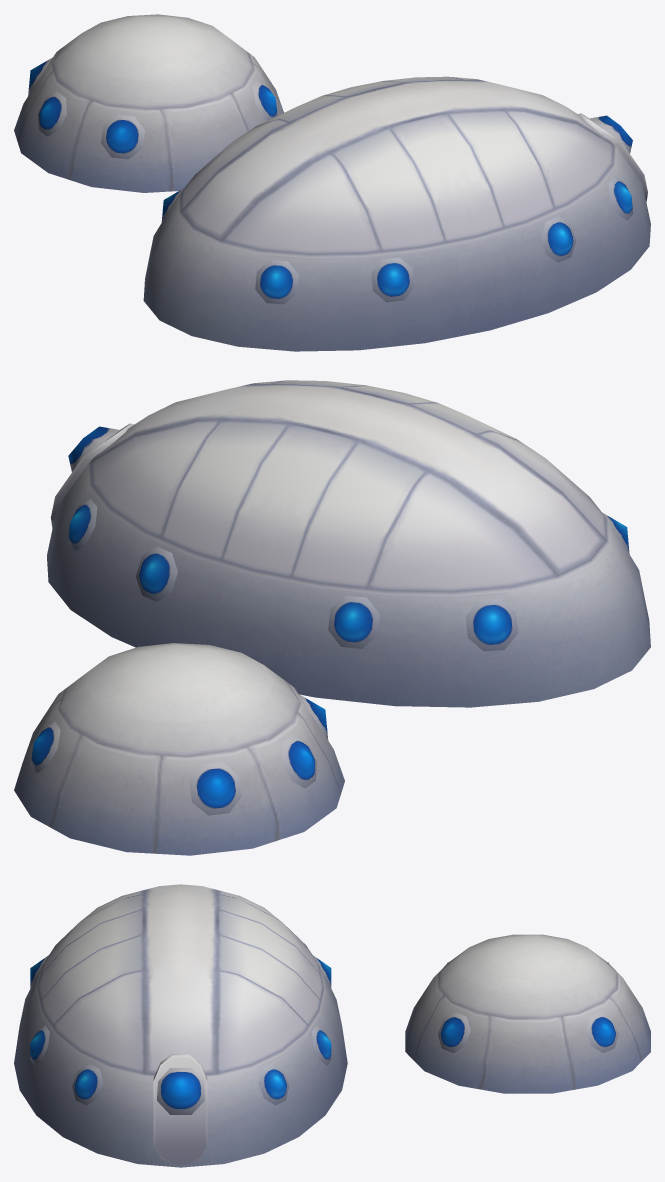
Rendered from nameikexing_jianzhu_02.FBX.
3 views of the same model, one above another, from view 1: azimuth 30°, elevation 25°; view 2: azimuth 150°, elevation 25°; view 3: azimuth 270°, elevation 25° (orthographic). The views are drawn at different scales.
Parts seen in each view (by area): view 1: nameikexing_jianzhu2_01, nameikexing_jianzhu1_02; view 2: nameikexing_jianzhu2_01, nameikexing_jianzhu1_02; view 3: nameikexing_jianzhu2_01, nameikexing_jianzhu1_02.
Boxes of the visible parts, x1,y1,x2,y2 form: nameikexing_jianzhu2_01: (143,76,650,351); nameikexing_jianzhu1_02: (14,14,647,201); nameikexing_jianzhu2_01: (47,380,650,707); nameikexing_jianzhu1_02: (14,423,344,855); nameikexing_jianzhu2_01: (14,884,347,1167); nameikexing_jianzhu1_02: (153,934,650,1164).
Size of the model in its own units: 1196 by 393 by 1540.
